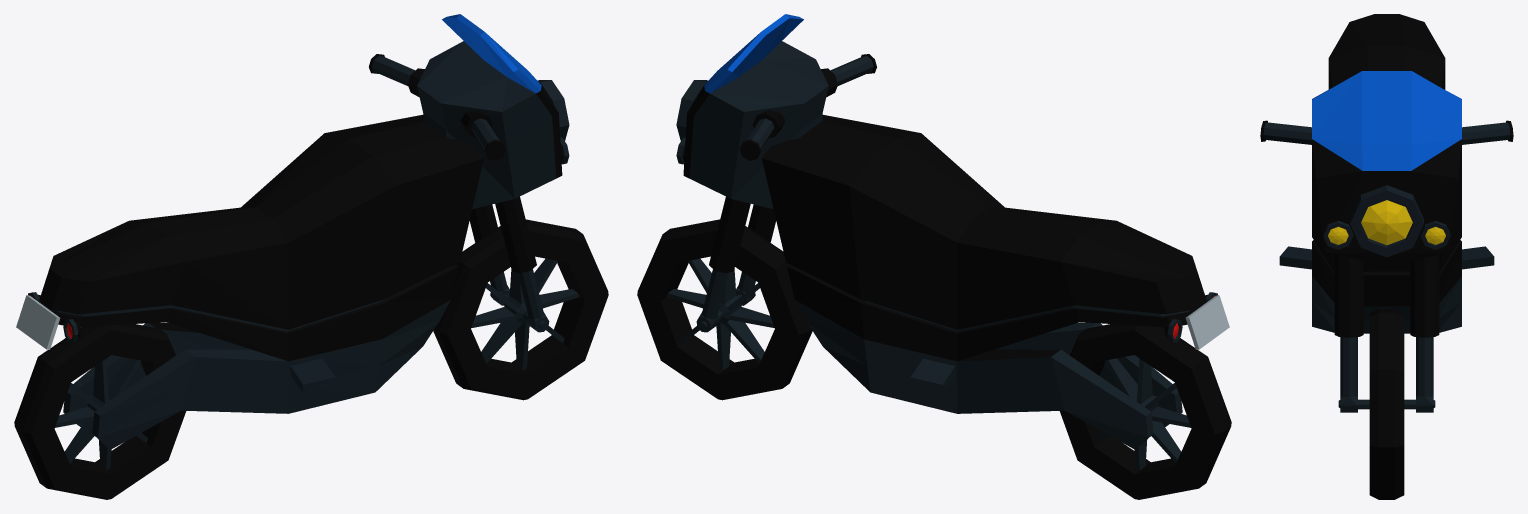
The model's file is motor.obj.
3 renders of one model, left to right at view 1: azimuth 30°, elevation 25°; view 2: azimuth 150°, elevation 25°; view 3: azimuth 270°, elevation 25°, orthographic. The views are drawn at different scales.
Size of the model in its own units: 15.79 by 9.94 by 5.68.
